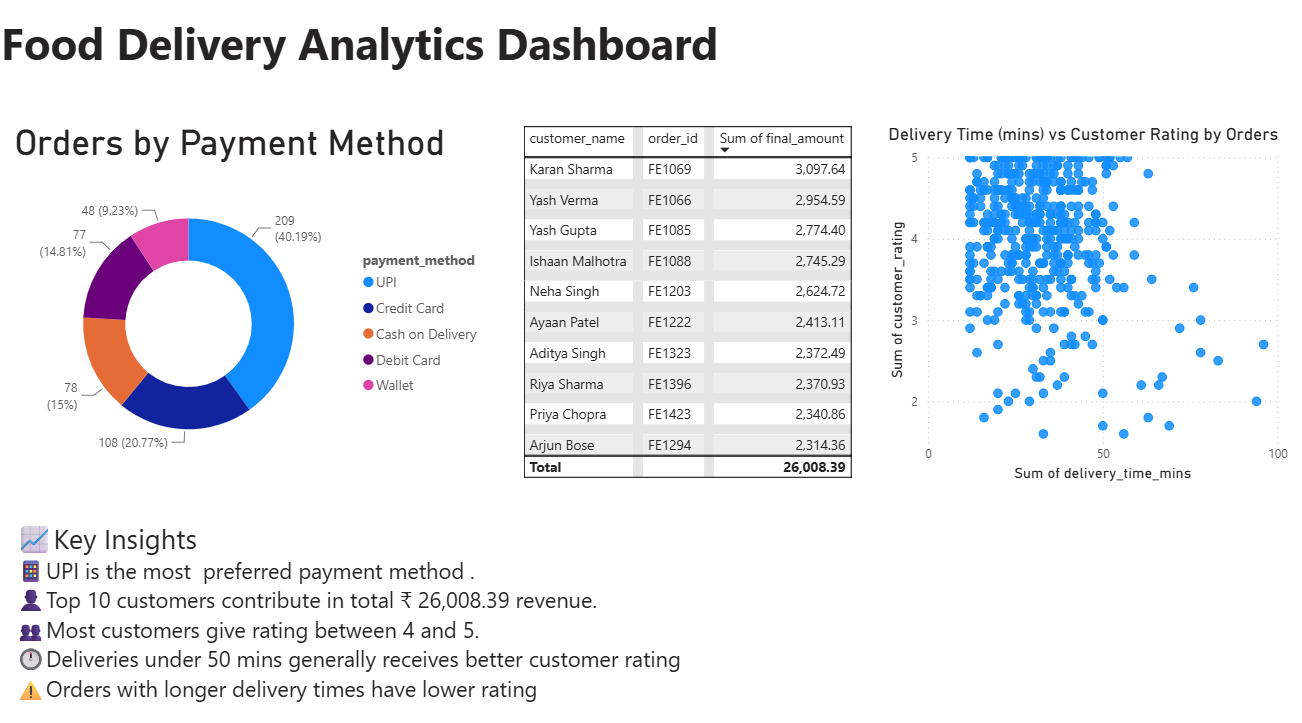

The page's visual inventory and layout, read from the dashboard file:
{"tool":"powerbi","page":{"name":"Page 2","canvas":[1280,720],"ordinal":1},"visuals":[{"type":"tableEx","fields":{"Values":["public orders.customer_name","public orders.order_id","Sum(public orders.final_amount)"]},"box":[510.5,129,332.1,374.6],"z":0},{"type":"scatterChart","title":"Delivery Time (mins) vs Customer Rating by Orders","fields":{"X":["Sum(public orders.delivery_time_mins)"],"Y":["Sum(public orders.customer_rating)"],"Category":["public orders.order_id"]},"box":[868.6,130.4,400.7,355.4],"z":1000},{"type":"donutChart","title":"Orders by Payment Method","fields":{"Category":["public orders.payment_method"],"Y":["CountNonNull(public orders.order_id)"]},"box":[13.7,129,476.2,356.8],"z":1001},{"type":"textbox","box":[14.4,495.2,722.1,225.1],"z":1002},{"type":"textbox","box":[0,0,1269.6,129.7],"z":1003}]}

Visuals, with their boxes in screenshot pixels (x1, y1, x2, y2), scaled from the page's 1280x720 canvas onto the 1302x723 screenshot:
tableEx - public orders.customer_name x public orders.order_id: bbox(519, 130, 857, 506)
"Delivery Time (mins) vs Customer Rating by Orders" scatterChart: bbox(884, 131, 1291, 488)
"Orders by Payment Method" donutChart: bbox(14, 130, 498, 488)
textbox: bbox(15, 497, 749, 722)
textbox: bbox(0, 0, 1291, 130)
